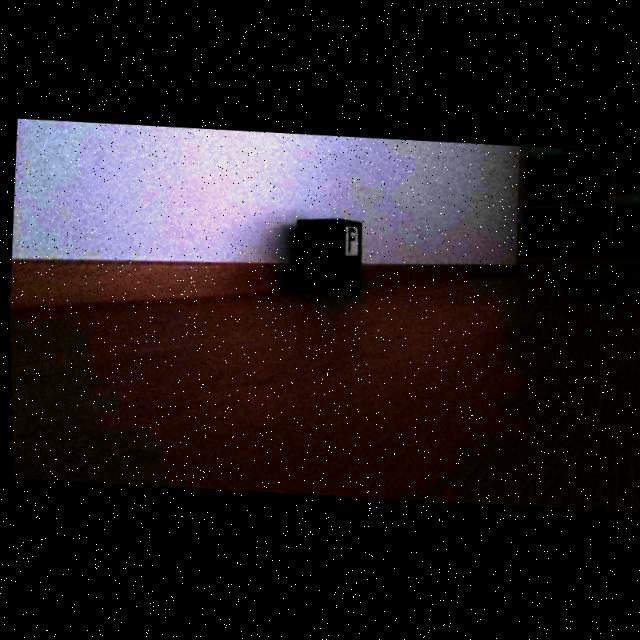F: (346, 229, 353, 253)
